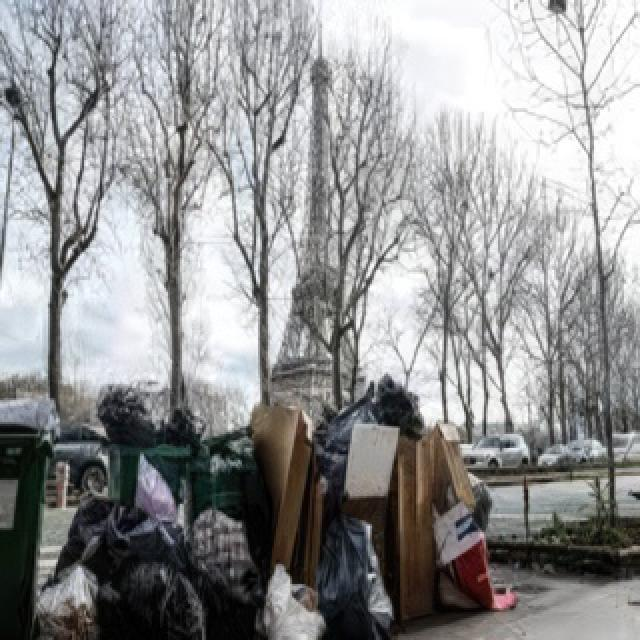high trash: (36, 406, 518, 640)
